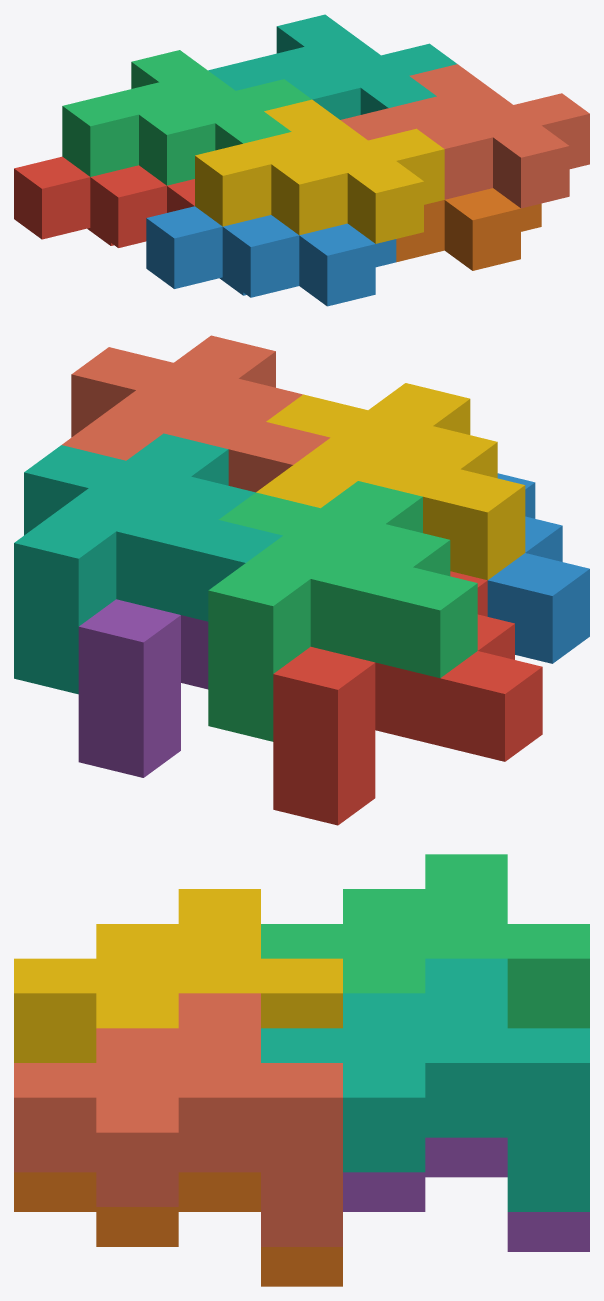
File: tiling.obj
The picture shows the model from 3 angles, top to bottom: view 1: azimuth 30°, elevation 25°; view 2: azimuth 150°, elevation 25°; view 3: azimuth 270°, elevation 25°; orthographic projection. The views are drawn at different scales.
Parts seen in each view (by area): view 1: copy_1_domain_4, copy_1_domain_3, copy_1_domain_8, copy_1_domain_2, copy_1_domain_7, copy_1_domain_1, copy_1_domain_6; view 2: copy_1_domain_3, copy_1_domain_7, copy_1_domain_1, copy_1_domain_4, copy_1_domain_8, copy_1_domain_5, copy_1_domain_2; view 3: copy_1_domain_8, copy_1_domain_7, copy_1_domain_4, copy_1_domain_3, copy_1_domain_6, copy_1_domain_5.
Boxes of the visible parts, left/top/right/bottom form: copy_1_domain_4: left=195, top=99, right=444, bottom=243; copy_1_domain_3: left=62, top=50, right=311, bottom=185; copy_1_domain_8: left=340, top=64, right=589, bottom=208; copy_1_domain_2: left=146, top=206, right=396, bottom=306; copy_1_domain_7: left=208, top=14, right=456, bottom=119; copy_1_domain_1: left=14, top=156, right=194, bottom=247; copy_1_domain_6: left=396, top=188, right=541, bottom=270; copy_1_domain_3: left=208, top=481, right=477, bottom=741; copy_1_domain_7: left=14, top=433, right=282, bottom=694; copy_1_domain_1: left=273, top=571, right=542, bottom=825; copy_1_domain_4: left=256, top=383, right=525, bottom=580; copy_1_domain_8: left=62, top=335, right=330, bottom=492; copy_1_domain_5: left=78, top=599, right=208, bottom=777; copy_1_domain_2: left=487, top=473, right=589, bottom=663; copy_1_domain_8: left=14, top=993, right=342, bottom=1246; copy_1_domain_7: left=261, top=958, right=589, bottom=1211; copy_1_domain_4: left=14, top=889, right=342, bottom=1062; copy_1_domain_3: left=261, top=854, right=589, bottom=1028; copy_1_domain_6: left=14, top=1172, right=342, bottom=1286; copy_1_domain_5: left=343, top=1137, right=589, bottom=1251.
Bounding box in the file's own units: 9 × 3 × 7.
